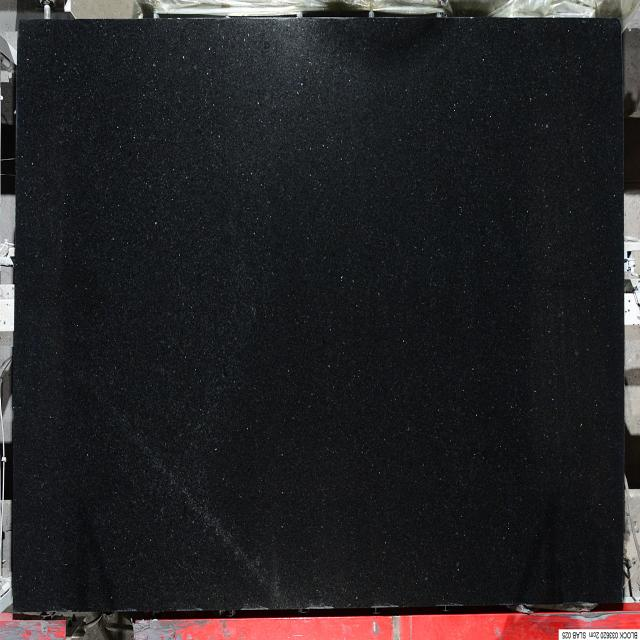chapa: (14, 16, 624, 612)
